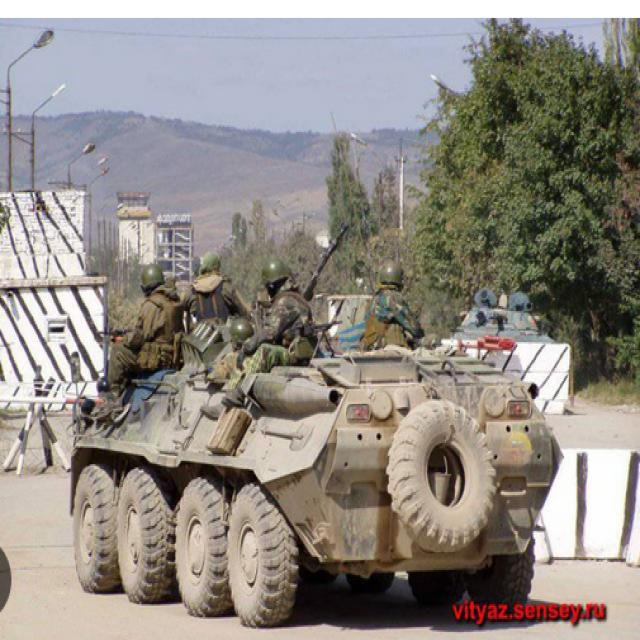MIL_APC: (70, 279, 578, 640)
